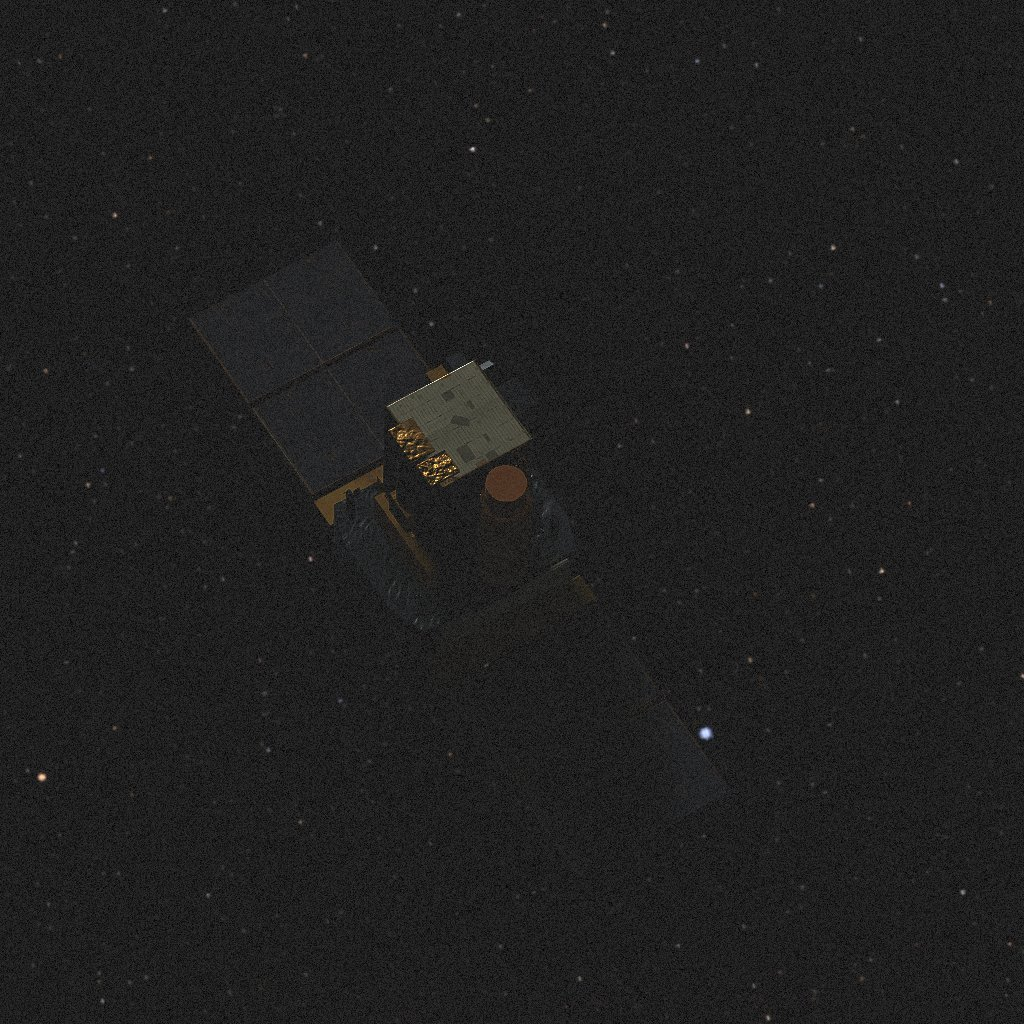soho: (189, 241, 731, 878)
